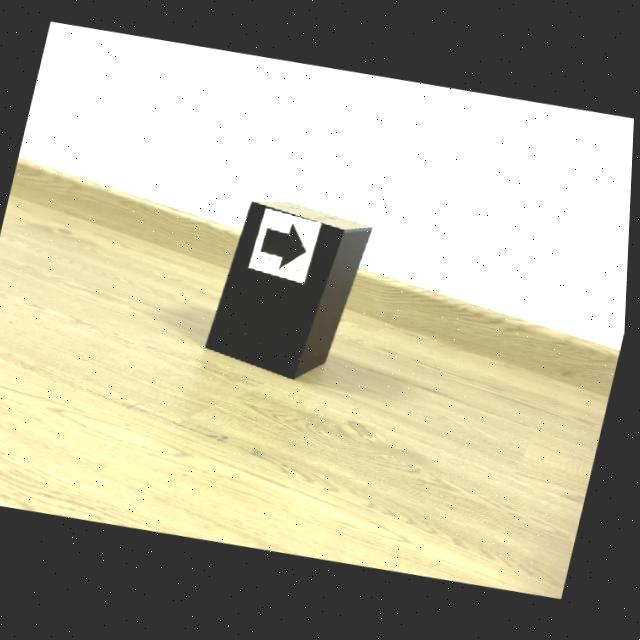RIGHT: (263, 227, 308, 270)
